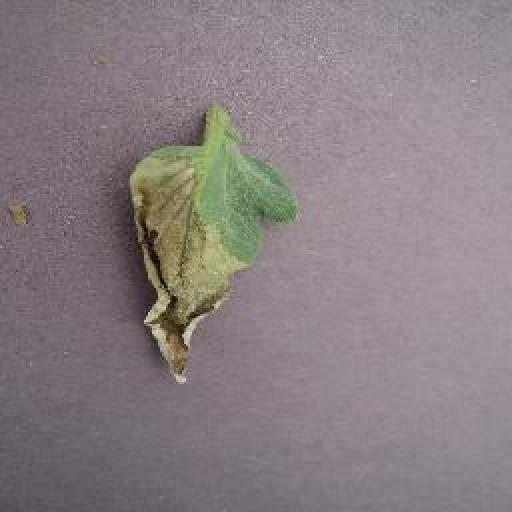disease_tomato: (131, 140, 297, 390)
